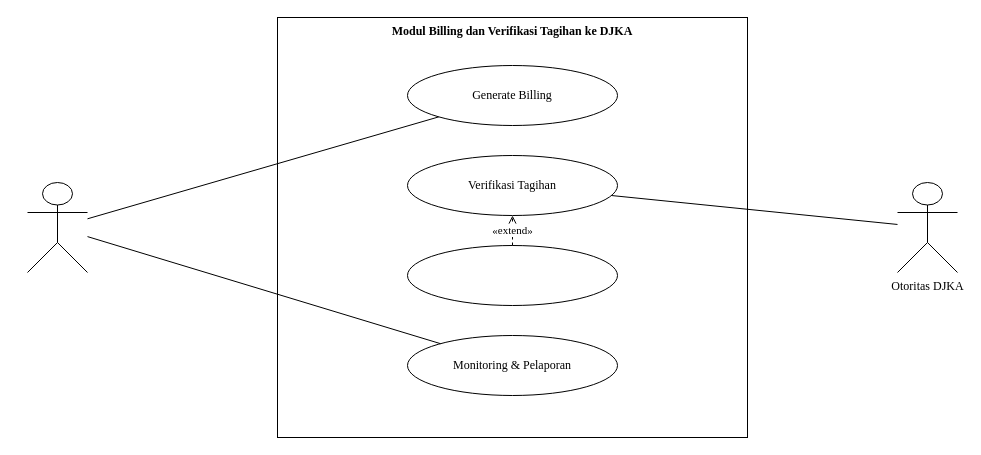
Some shapes in this 981 by 455 pixel diagram are drawn without their labels. Here are the shapes that lost their labels. From the top down, the centre of each, then its label:
At pixel 57 227: "Cost Accounting".
At pixel 512 275: "Revisi Tagihan".
